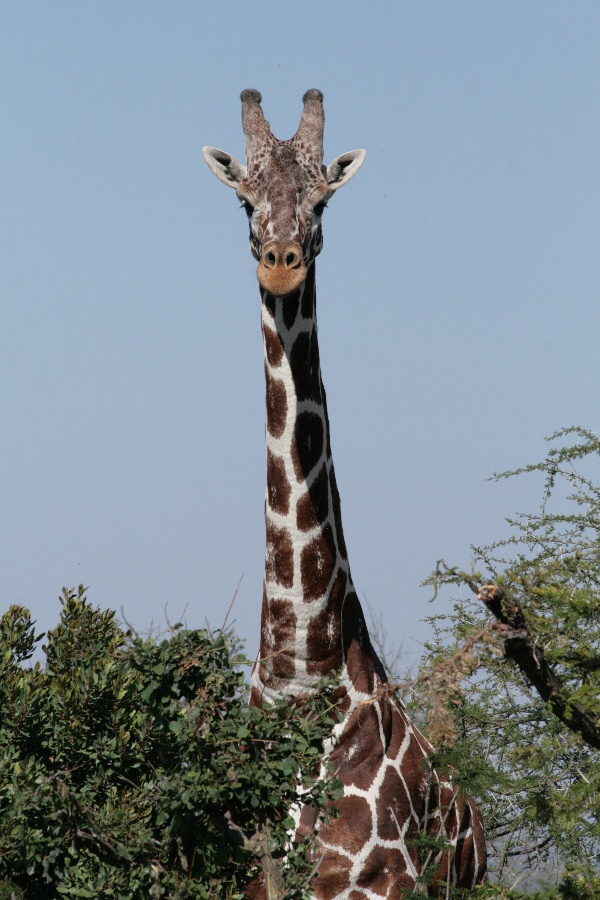giraffe: (187, 79, 504, 890)
